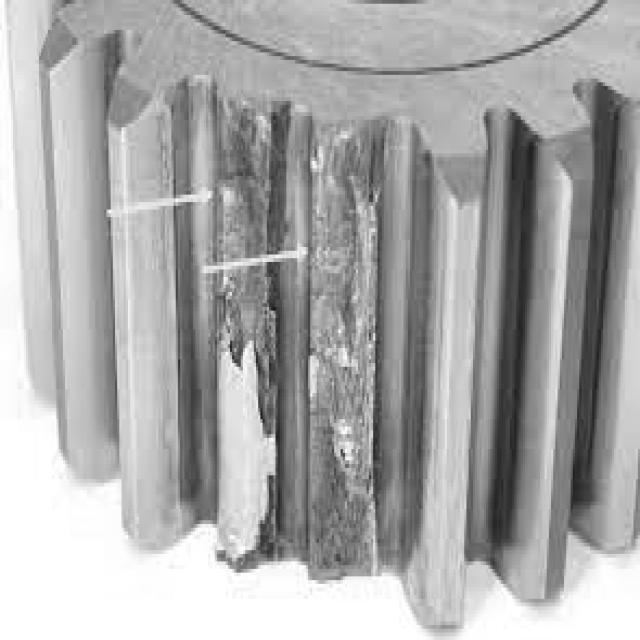Fault-Exist: (188, 70, 395, 603)
